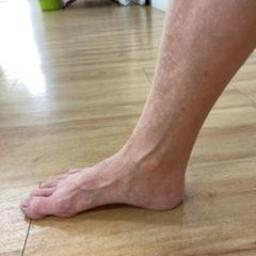Medial View -Right Foot-: (6, 103, 209, 236)
